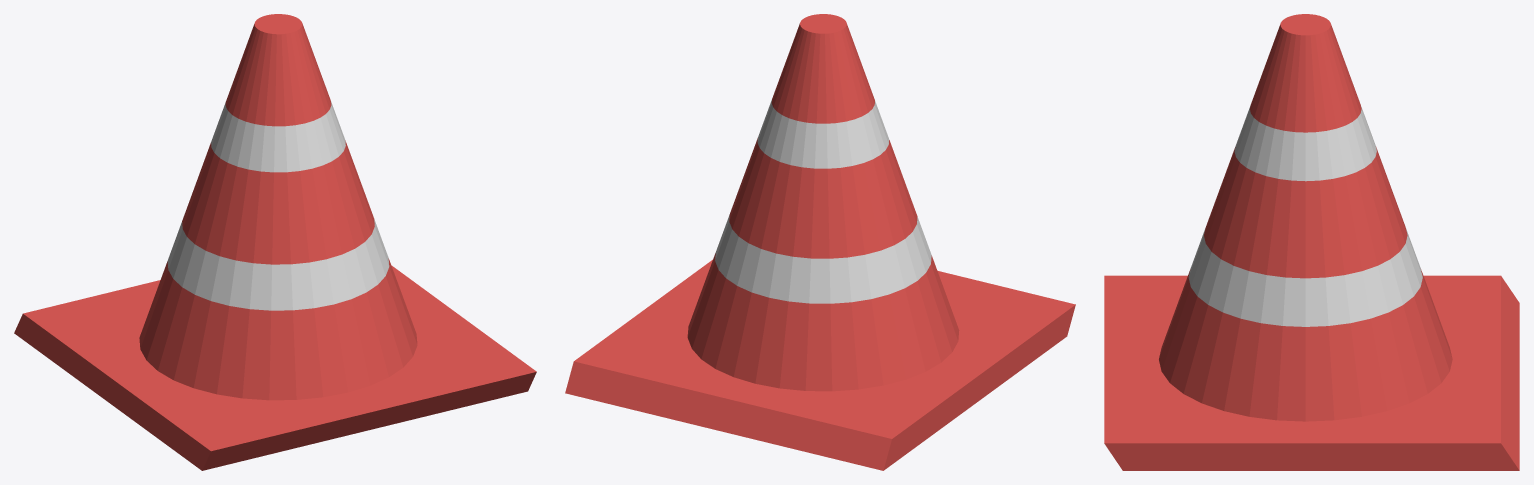
The model's file is Cono.glb.
3 renders of one model, left to right at view 1: azimuth 30°, elevation 25°; view 2: azimuth 150°, elevation 25°; view 3: azimuth 270°, elevation 25°, orthographic. The views are drawn at different scales.
Parts seen in each view (by area): view 1: cono; view 2: cono; view 3: cono.
Part boxes in pixels (x1=…): cono: x1=14, y1=14, x2=536, y2=470; cono: x1=565, y1=14, x2=1075, y2=470; cono: x1=1104, y1=14, x2=1519, y2=470.
Bounding box in the file's own units: 0.7951 × 0.8012 × 0.8327.
